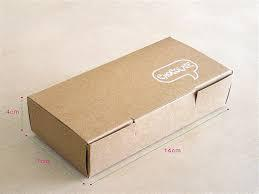box: (26, 35, 234, 180)
